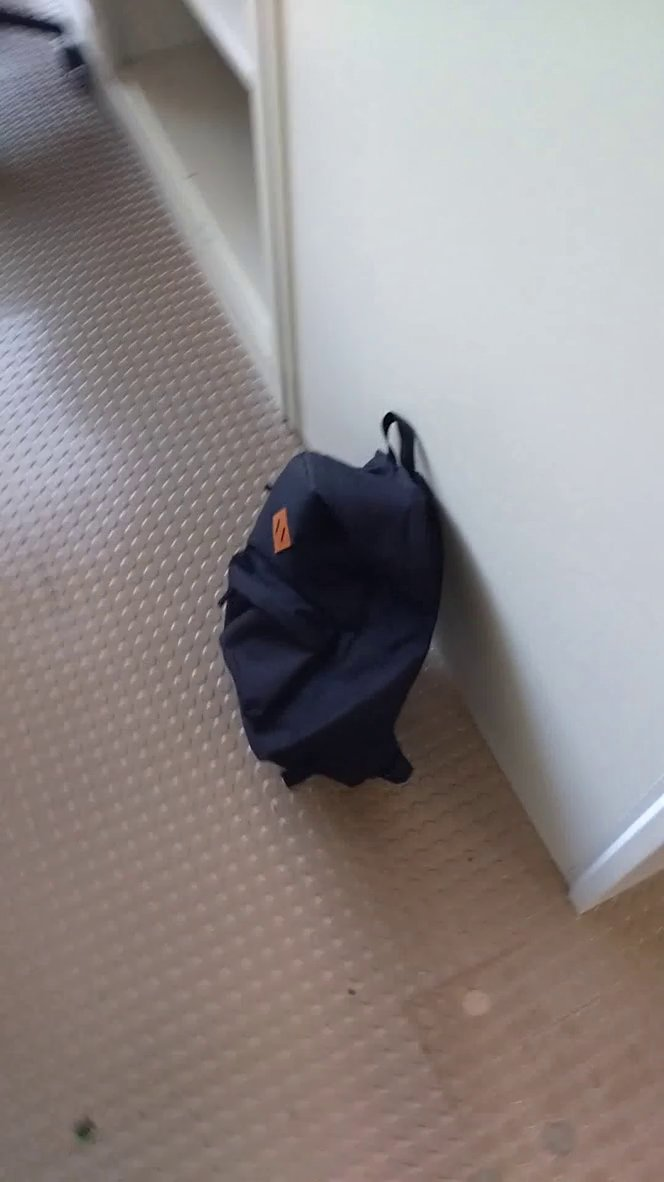bag: (205, 405, 460, 812)
